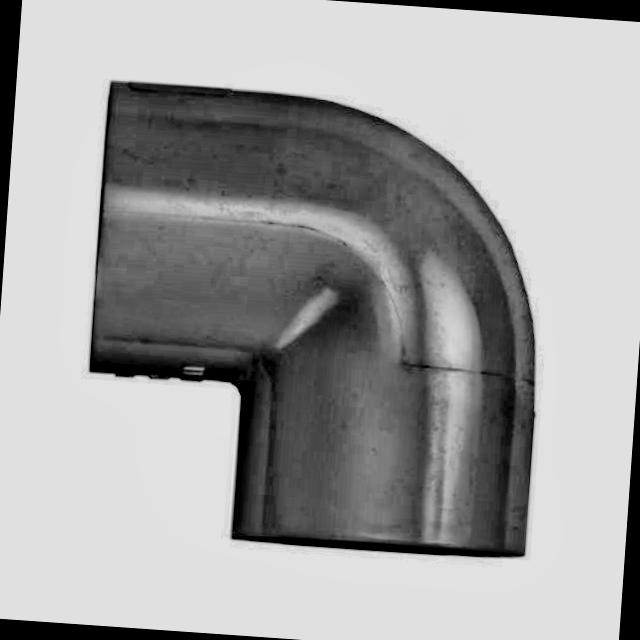ELBOW90: (89, 81, 538, 560)
